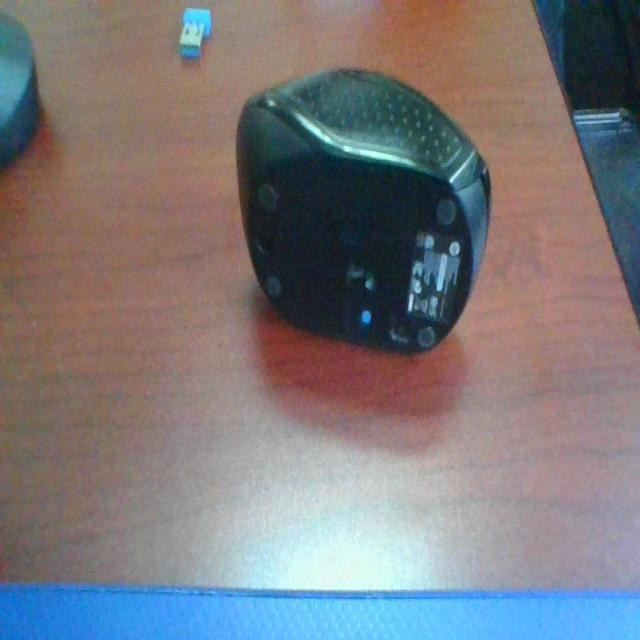mouse: (234, 52, 508, 364)
